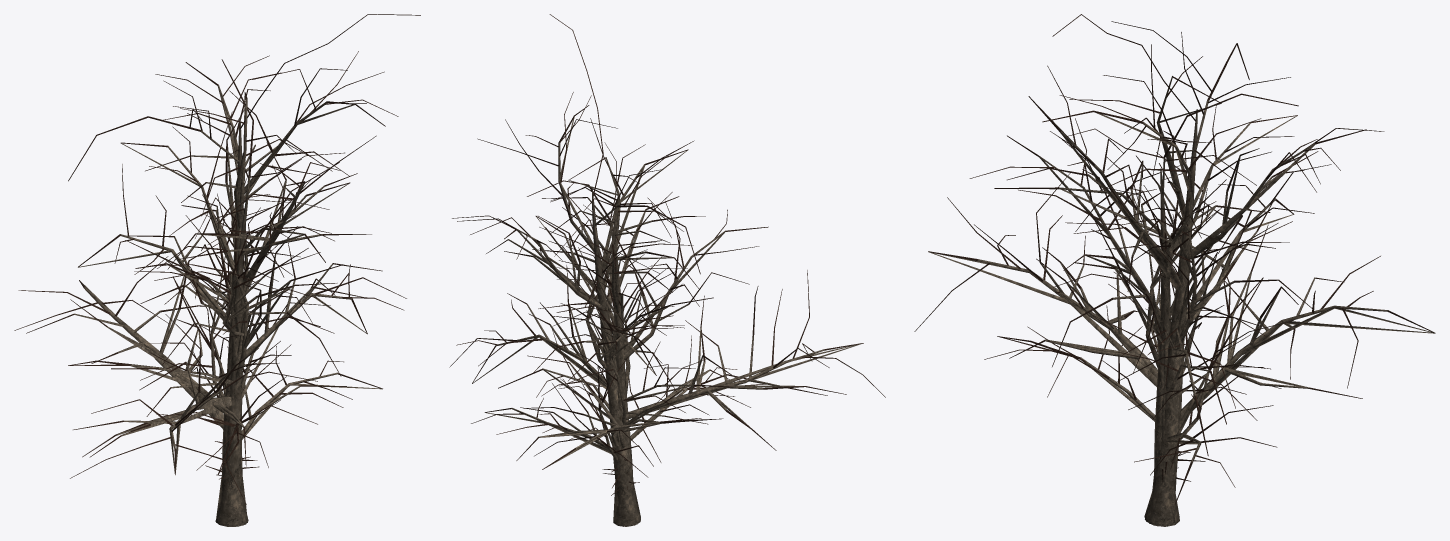
File: apple_wood.glb
The picture shows the model from 3 angles, left to right: view 1: azimuth 30°, elevation 25°; view 2: azimuth 150°, elevation 25°; view 3: azimuth 270°, elevation 25°; orthographic projection. The views are drawn at different scales.
Parts seen in each view (by area): view 1: apple_c, apple_a, apple_c_l1, apple_b, apple_a_l1, apple_c_l2, apple_b_l1; view 2: apple_c, apple_a, apple_c_l1, apple_b, apple_a_l1, apple_c_l2, apple_b_l1; view 3: apple_c, apple_a, apple_c_l1, apple_b, apple_a_l1, apple_c_l2, apple_b_l1.
Part boxes in pixels (x1,y1,x2,y2): apple_c: (14,14,420,526); apple_a: (121,59,382,487); apple_c_l1: (68,63,385,525); apple_b: (111,162,342,482); apple_a_l1: (120,143,382,468); apple_c_l2: (82,117,296,526); apple_b_l1: (115,219,342,473); apple_c: (449,14,885,526); apple_a: (471,142,768,489); apple_c_l1: (472,108,862,526); apple_b: (498,195,769,483); apple_a_l1: (485,199,768,454); apple_c_l2: (549,150,860,526); apple_b_l1: (502,298,765,449); apple_c: (914,14,1434,526); apple_a: (969,93,1313,504); apple_c_l1: (935,102,1434,526); apple_b: (984,163,1293,456); apple_a_l1: (995,115,1297,485); apple_c_l2: (928,107,1435,523); apple_b_l1: (1000,167,1263,432).
Bounding box in the file's own units: 6.96 × 8.55 × 7.23.
Materials: 2 (2 with a texture image).
